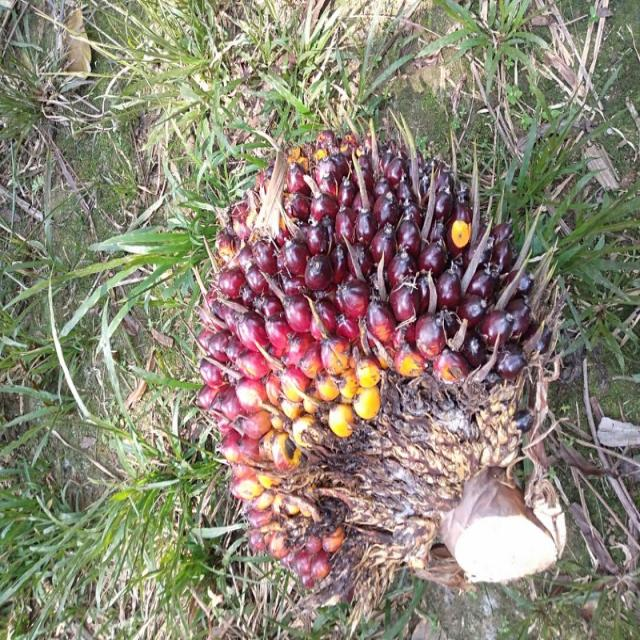fraksi 1: (199, 148, 554, 581)
